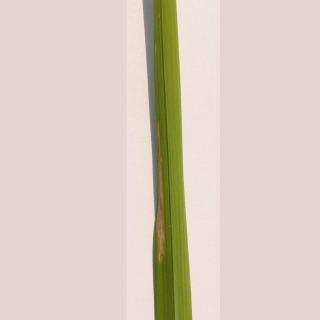Hawar-Daun: (145, 103, 185, 307)
